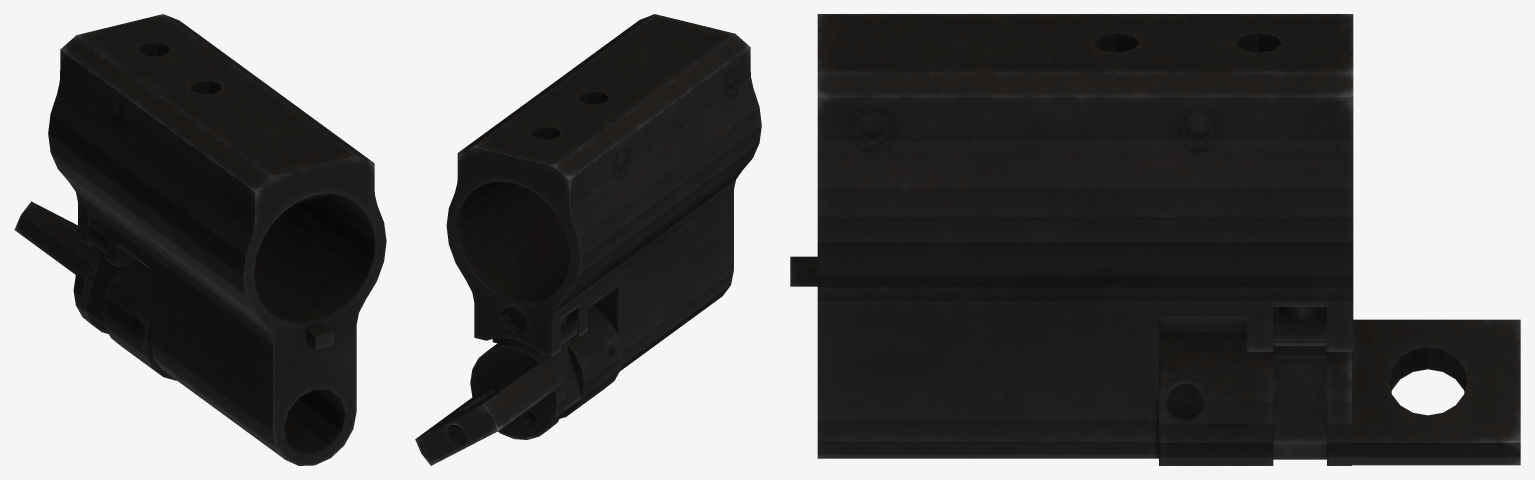
The picture shows the model from 3 angles, left to right: view 1: azimuth 30°, elevation 25°; view 2: azimuth 150°, elevation 25°; view 3: azimuth 270°, elevation 25°; orthographic projection. The views are drawn at different scales.
Parts seen in each view (by area): view 1: TW_61702f1b67085e45ef140b26_PZ_Import; view 2: TW_61702f1b67085e45ef140b26_PZ_Import; view 3: TW_61702f1b67085e45ef140b26_PZ_Import.
Part boxes in pixels (x1,y1,x2,y2): TW_61702f1b67085e45ef140b26_PZ_Import: (14, 14, 386, 465); TW_61702f1b67085e45ef140b26_PZ_Import: (415, 14, 761, 465); TW_61702f1b67085e45ef140b26_PZ_Import: (790, 14, 1520, 465).
Bounding box in the file's own units: 0.0128 × 0.0413 × 0.026.
Materials: 1 (1 with a texture image).
